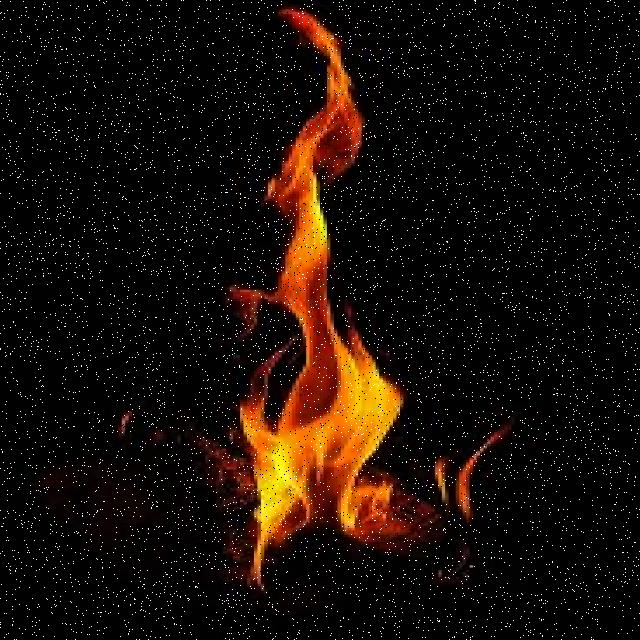fire: (229, 8, 413, 580)
